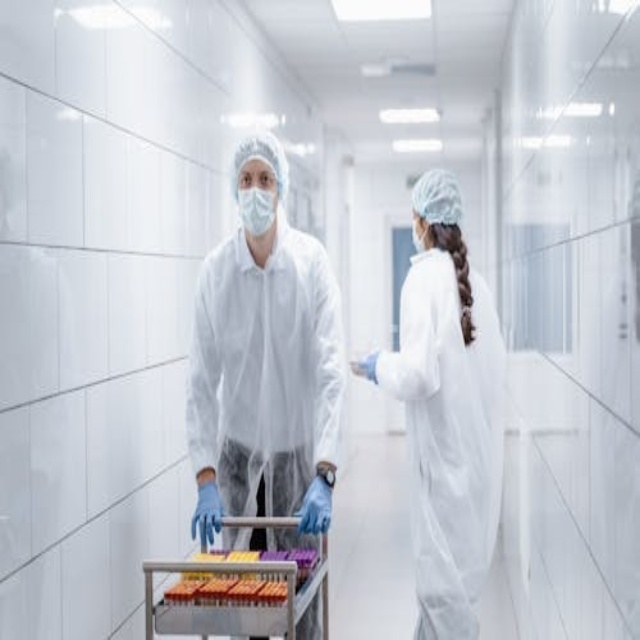Guantes: (293, 474, 334, 536), (191, 481, 224, 550), (357, 350, 381, 384)
Mascara: (237, 187, 277, 236), (411, 218, 427, 254)
Sin_gafas: (238, 173, 278, 191)
